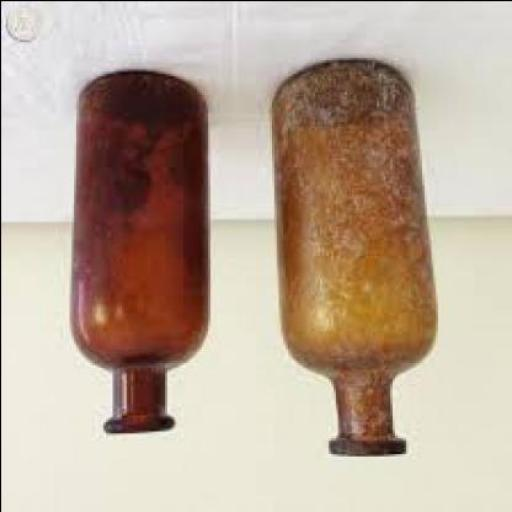glass: (268, 59, 434, 458), (66, 73, 205, 432)
